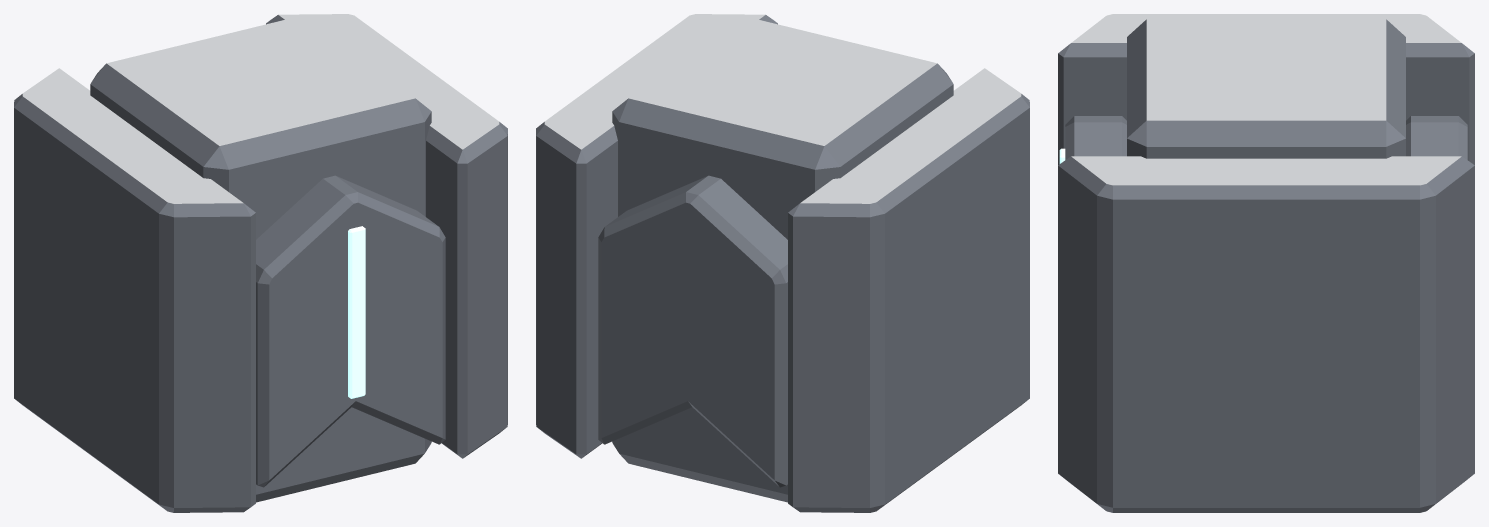
File: R4X_HullBooster_LOD1.fbx
The picture shows the model from 3 angles, left to right: view 1: azimuth 30°, elevation 25°; view 2: azimuth 150°, elevation 25°; view 3: azimuth 270°, elevation 25°; orthographic projection. The views are drawn at different scales.
Visible parts, largest first — view 1: R4X_HullBooster_LOD1; view 2: R4X_HullBooster_LOD1; view 3: R4X_HullBooster_LOD1.
Boxes of the visible parts, x1,y1,x2,y2 form: R4X_HullBooster_LOD1: (14,14,507,512); R4X_HullBooster_LOD1: (536,14,1029,512); R4X_HullBooster_LOD1: (1058,14,1474,512).
Size of the model in its own units: 0.52 by 0.52 by 0.5076.
